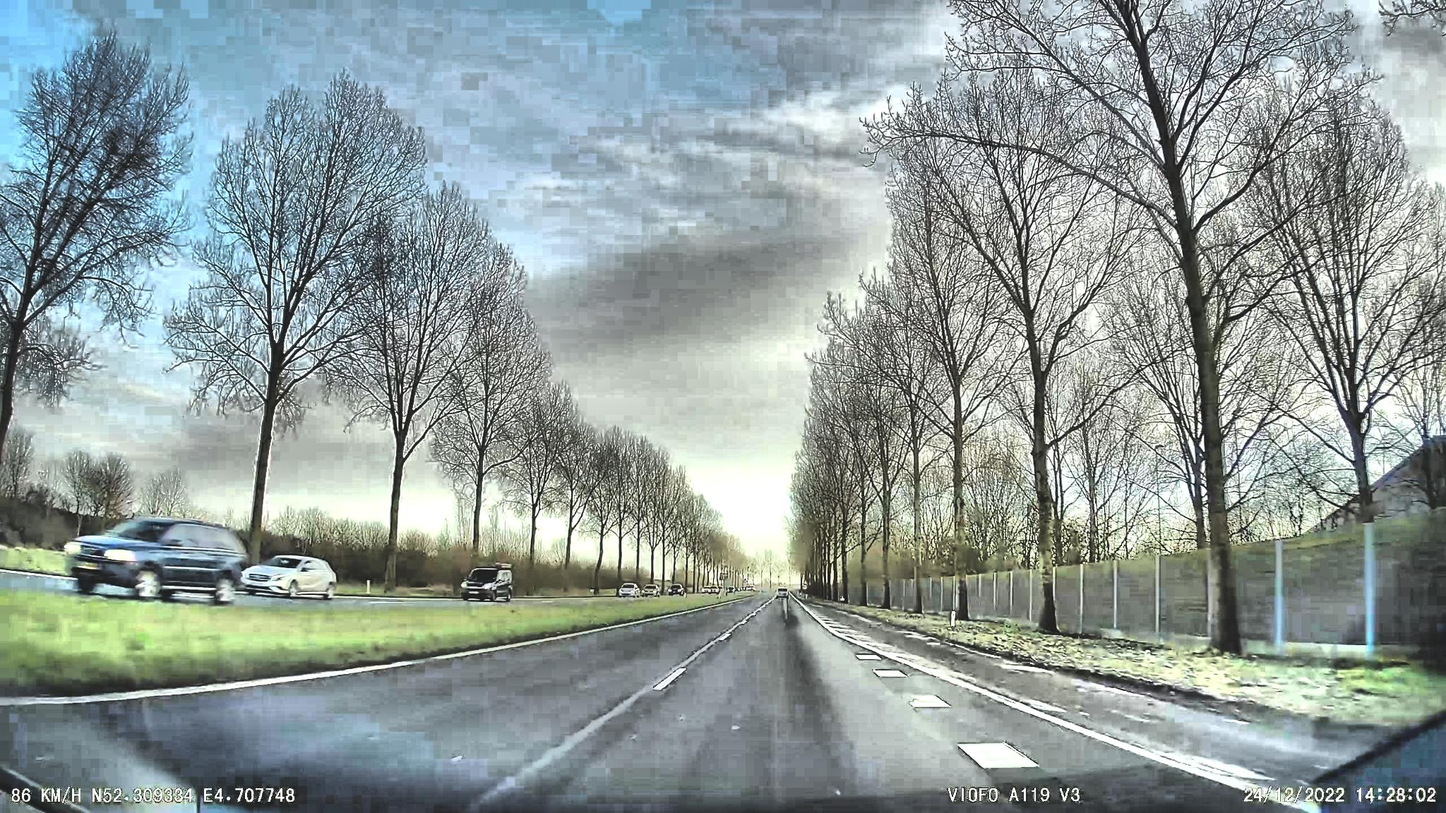Roads: (0, 592, 1446, 813)
